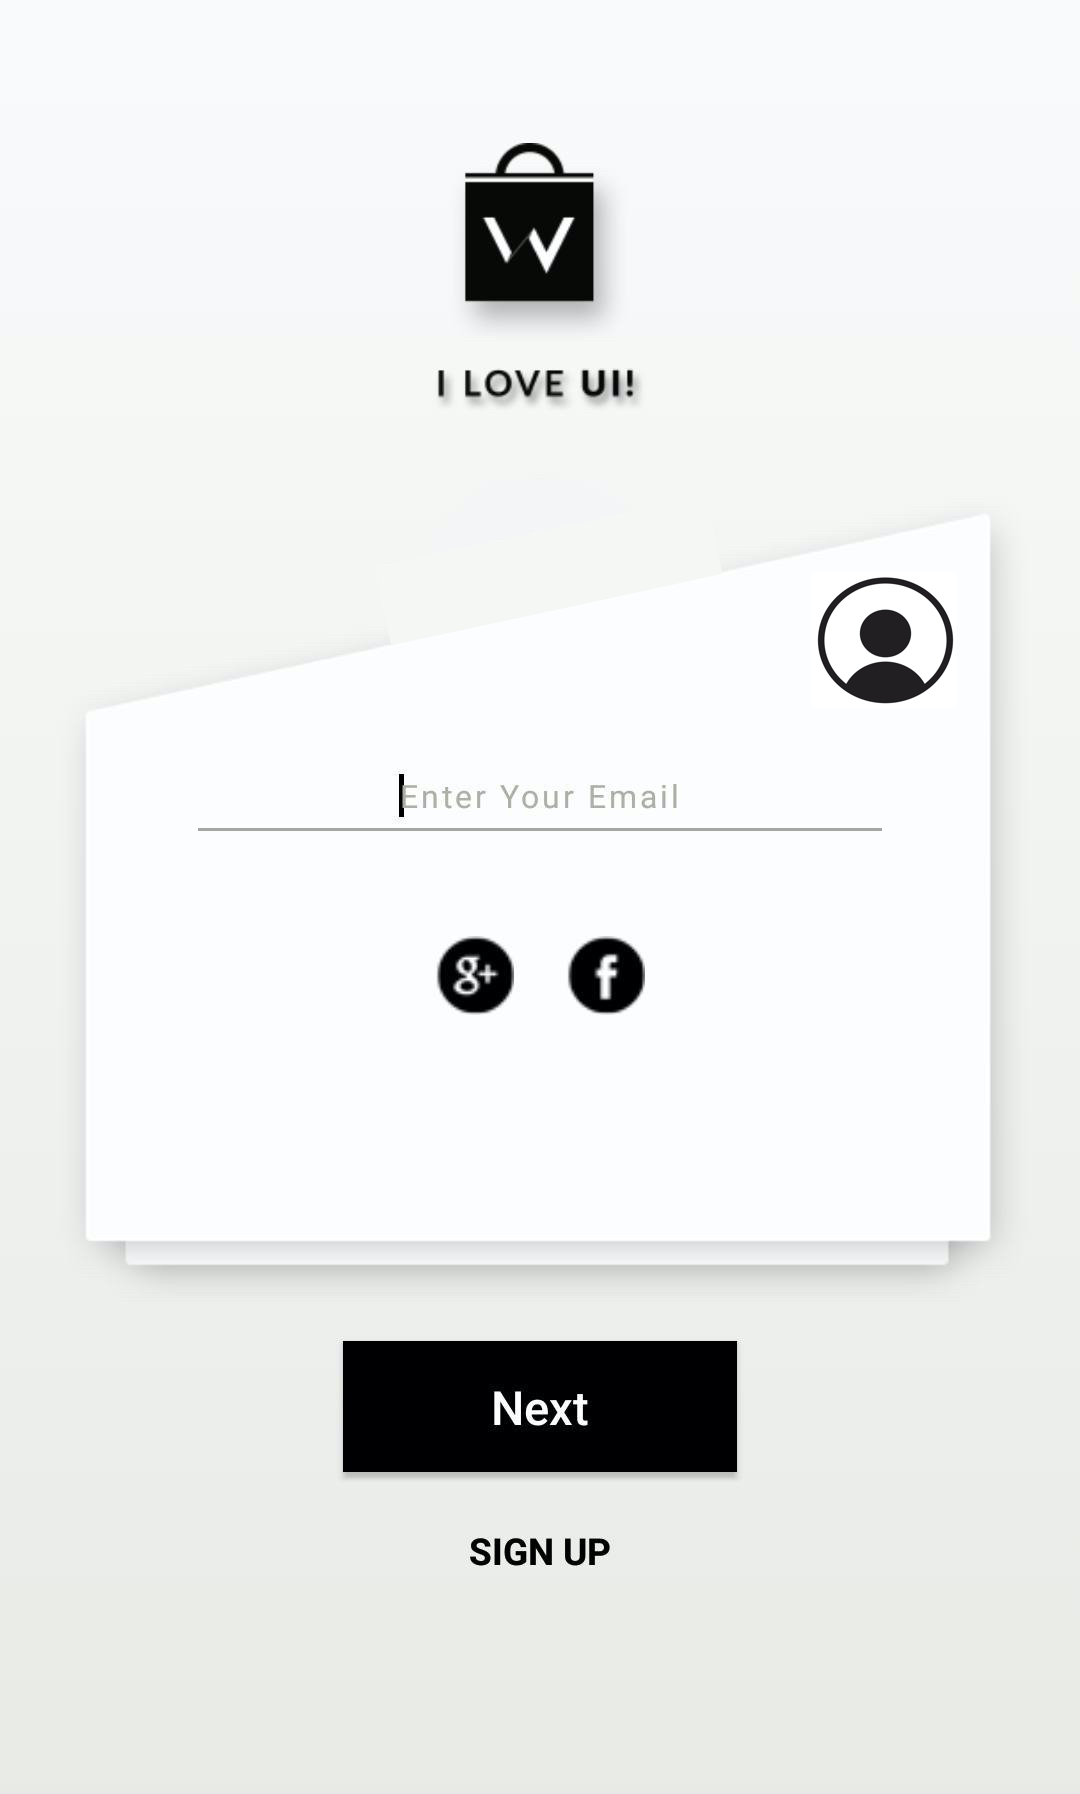EditText: (199, 774, 883, 833)
Icon: (817, 577, 954, 704), (568, 937, 646, 1014), (438, 937, 515, 1014)
Image: (465, 144, 594, 302)
Text: (401, 784, 678, 810), (438, 370, 634, 399), (470, 1536, 611, 1566)
TextButton: (343, 1340, 738, 1472)
